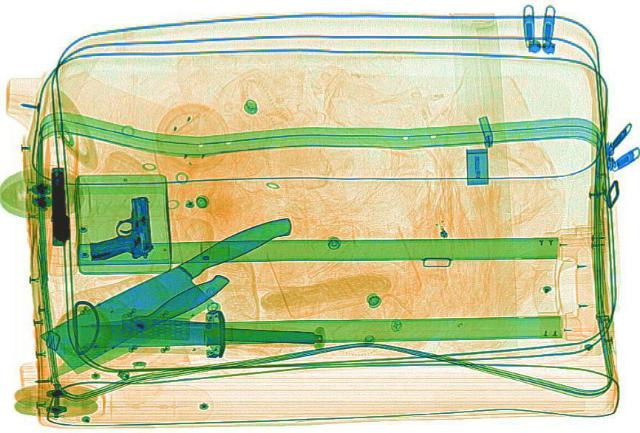Gun: (80, 195, 154, 260), (46, 167, 72, 244)
Knife: (28, 209, 328, 374), (34, 269, 236, 383), (88, 316, 314, 350)
